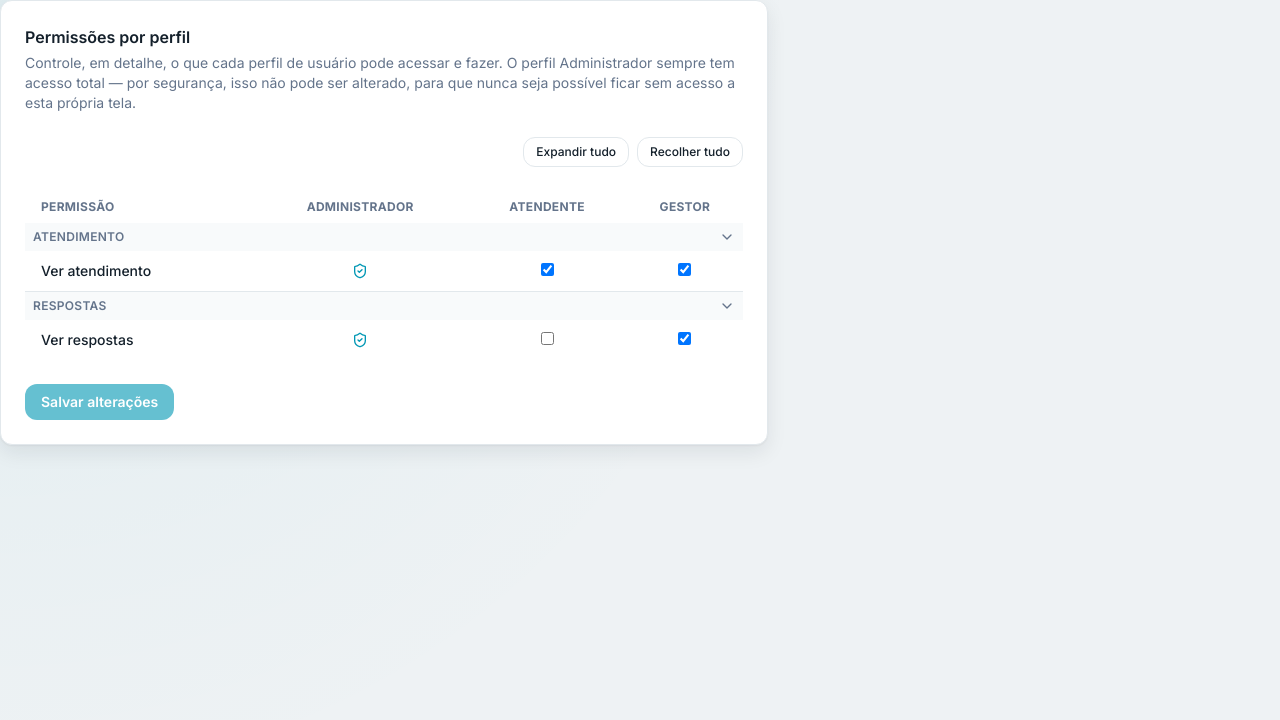
Scenario: Configurações › Permissões: recolher e expandir › abre tudo expandido; a seta recolhe um menu e os botões recolhem e expandem todos
The width and height of the screenshot is (1280, 720).
Expected: the text "Ver atendimento" is shown, [41, 262, 151, 279]
Expected: the text "Ver respostas" is shown, [41, 331, 133, 348]
Step 1. Click the button "Respostas" → (70, 306), box [25, 292, 743, 320]
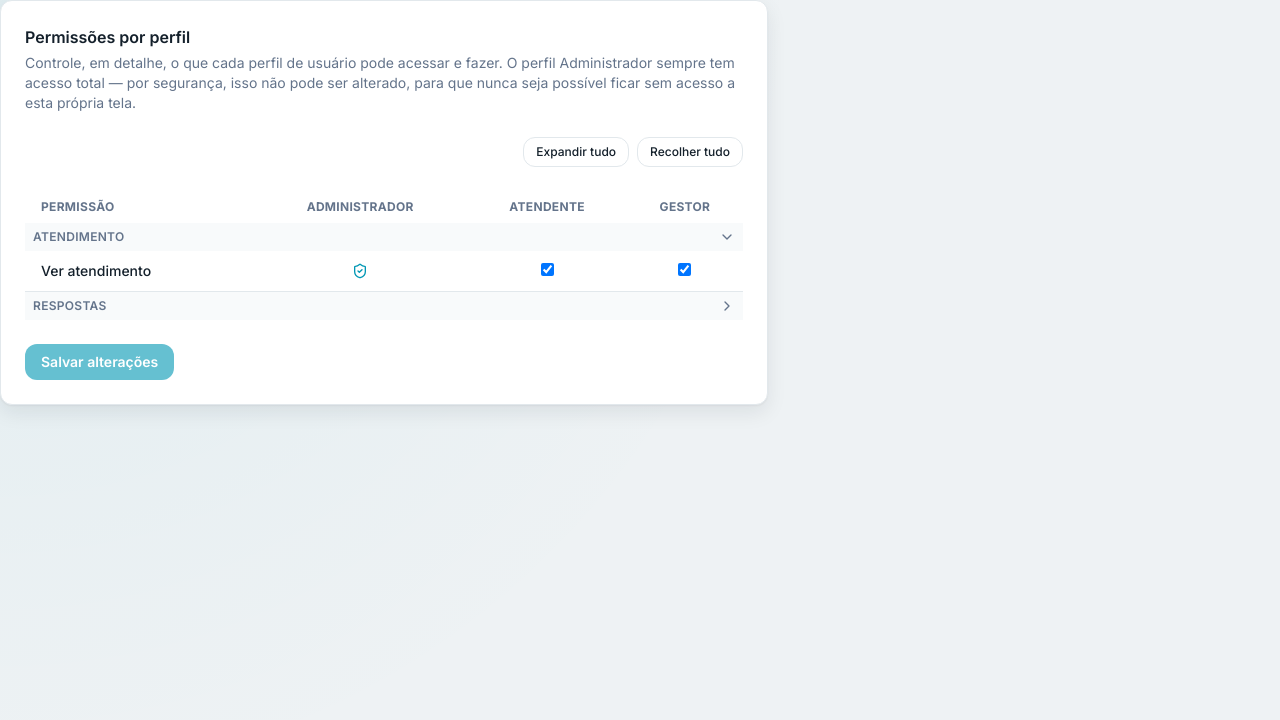
Expected: the text "Ver atendimento" is shown, [41, 262, 151, 279]
Result: the button "Respostas" is collapsed at [25, 292, 743, 320]
Result: the text "Ver respostas" is gone
Step 2. Click the button "Recolher tudo" → (690, 152), box [637, 137, 743, 167]
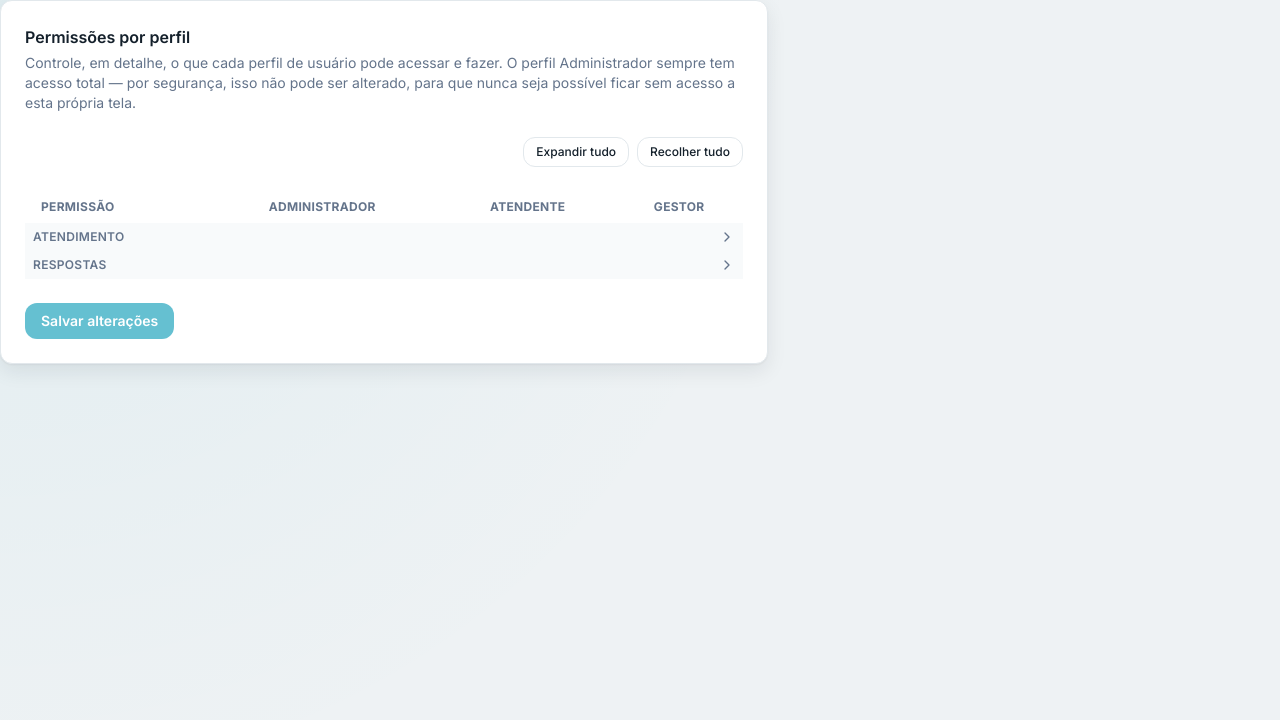
Result: the text "Ver atendimento" is gone
Step 3. Click the button "Expandir tudo" → (576, 152), box [523, 137, 629, 167]
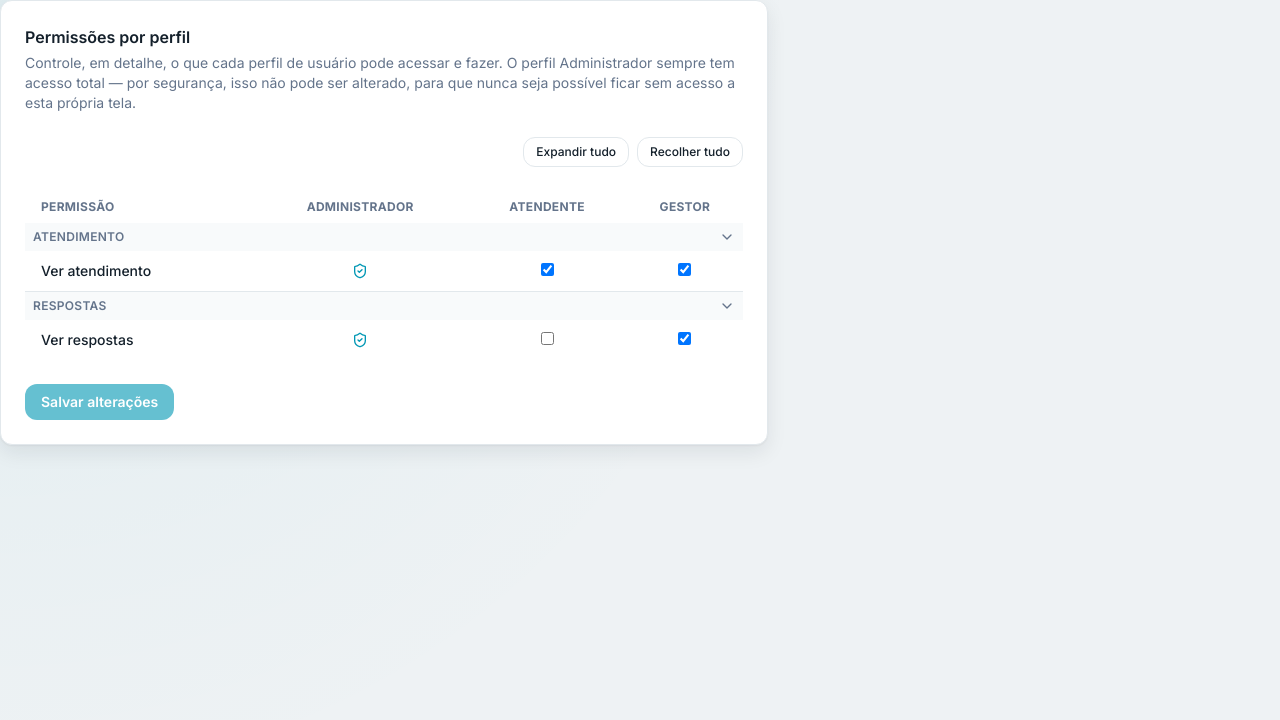
Result: the text "Ver atendimento" is shown at [41, 262, 151, 279]
Result: the text "Ver respostas" is shown at [41, 331, 133, 348]
